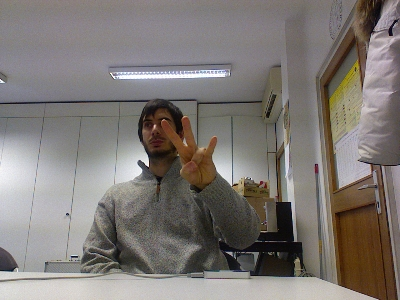观音: (159, 115, 218, 186)
